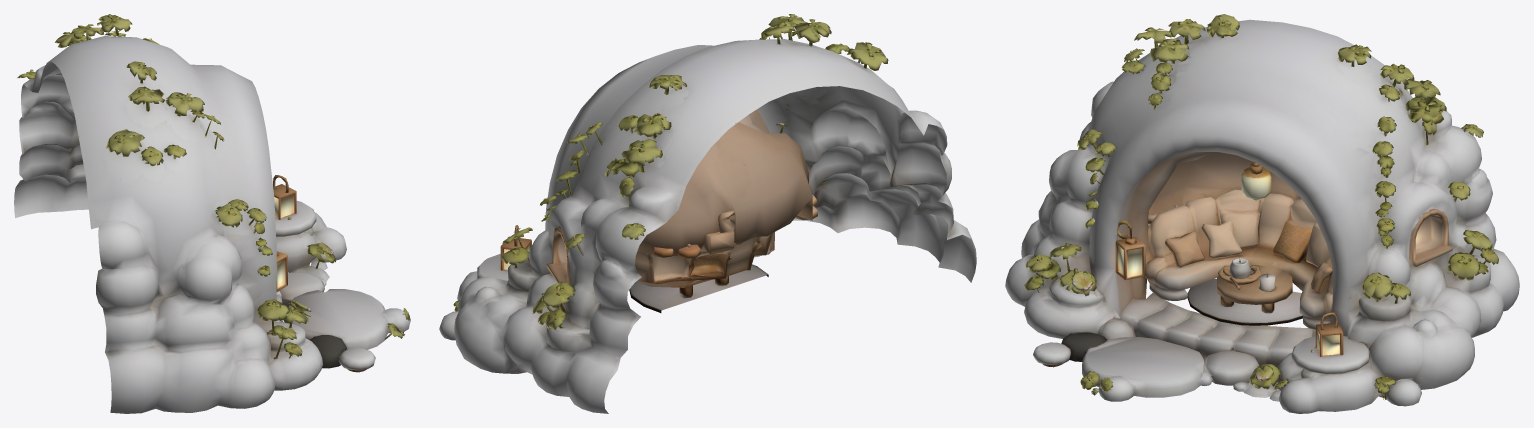
Rendered from prop_cave.glb.
The picture shows the model from 3 angles, left to right: view 1: azimuth 30°, elevation 25°; view 2: azimuth 150°, elevation 25°; view 3: azimuth 270°, elevation 25°; orthographic projection. The views are drawn at different scales.
Visible parts, largest first — view 1: tripo_node_c018bd6b-97c0-4fbe-a4f4-f2dbfa53e02a; view 2: tripo_node_c018bd6b-97c0-4fbe-a4f4-f2dbfa53e02a; view 3: tripo_node_c018bd6b-97c0-4fbe-a4f4-f2dbfa53e02a.
Boxes of the visible parts, x1=… form: tripo_node_c018bd6b-97c0-4fbe-a4f4-f2dbfa53e02a: x1=14, y1=14, x2=410, y2=413; tripo_node_c018bd6b-97c0-4fbe-a4f4-f2dbfa53e02a: x1=439, y1=14, x2=976, y2=413; tripo_node_c018bd6b-97c0-4fbe-a4f4-f2dbfa53e02a: x1=1005, y1=14, x2=1519, y2=413.
Size of the model in its own units: 0.817 by 0.6152 by 1.03.
1 material, 1 textured.
